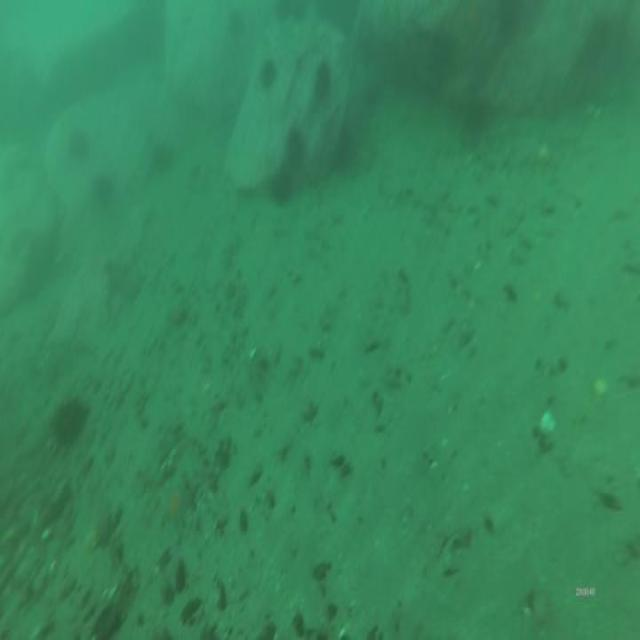echinus: (54, 398, 85, 447), (463, 104, 486, 133), (287, 131, 306, 163), (270, 177, 292, 204), (314, 62, 330, 94), (95, 172, 112, 202), (153, 146, 170, 172), (70, 134, 87, 155), (262, 58, 273, 84)
starfish: (158, 483, 190, 532)
